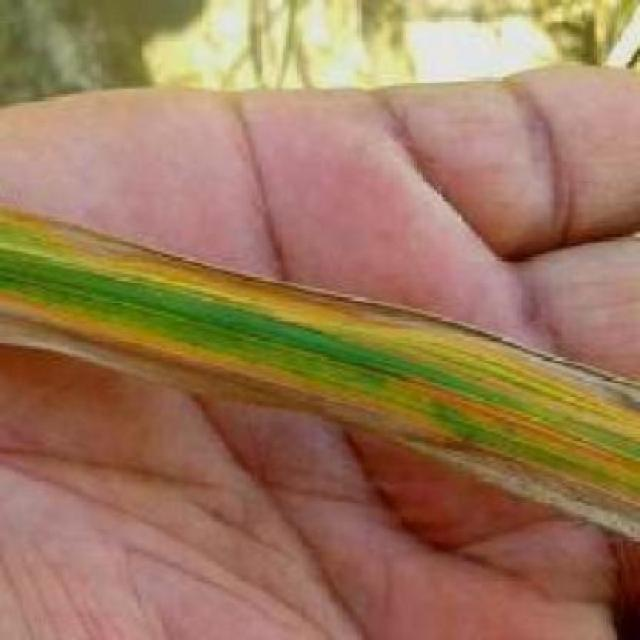Brown_Spot: (7, 182, 551, 486), (557, 190, 638, 507)
